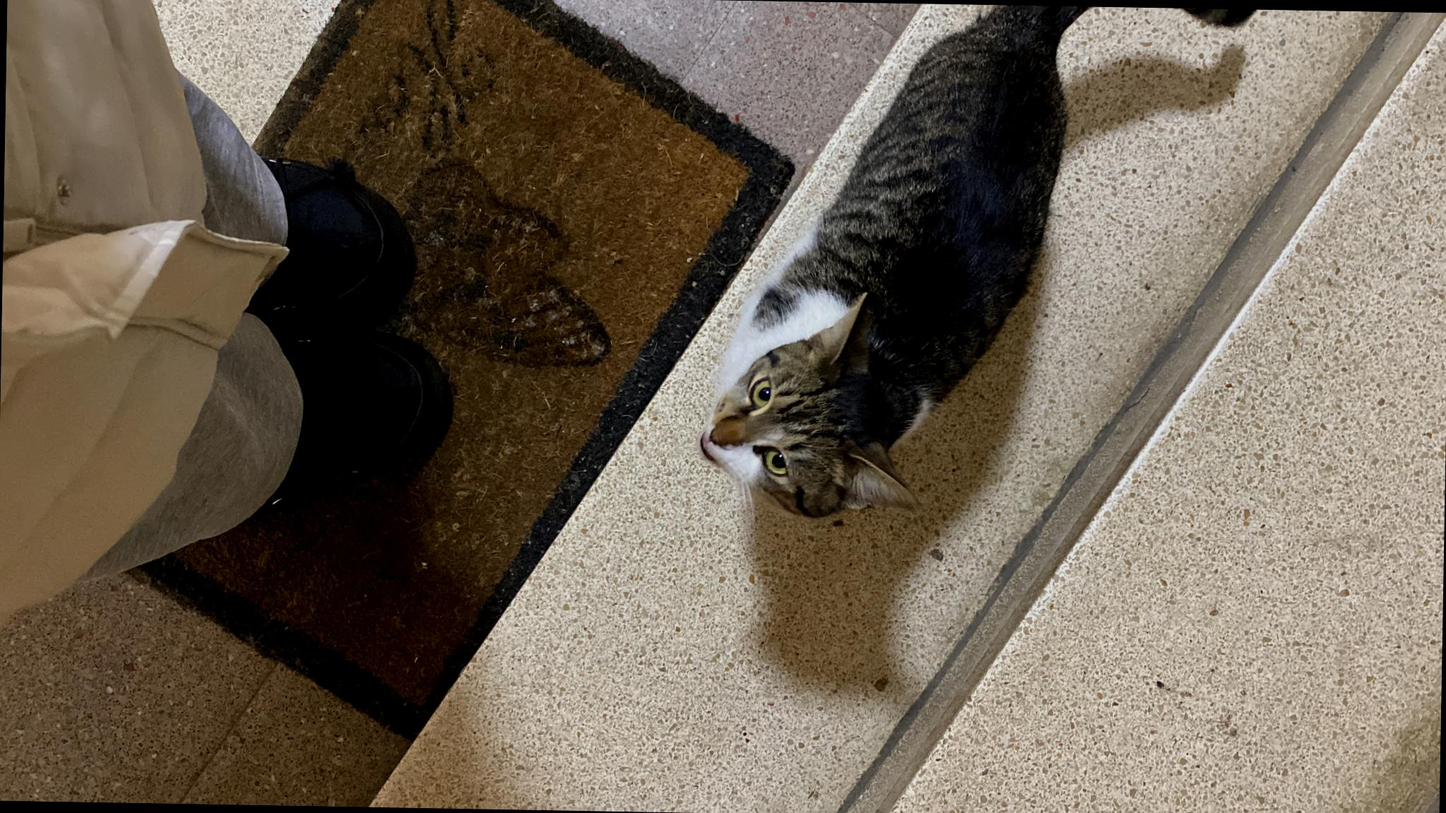macka: (926, 69, 1446, 466)
